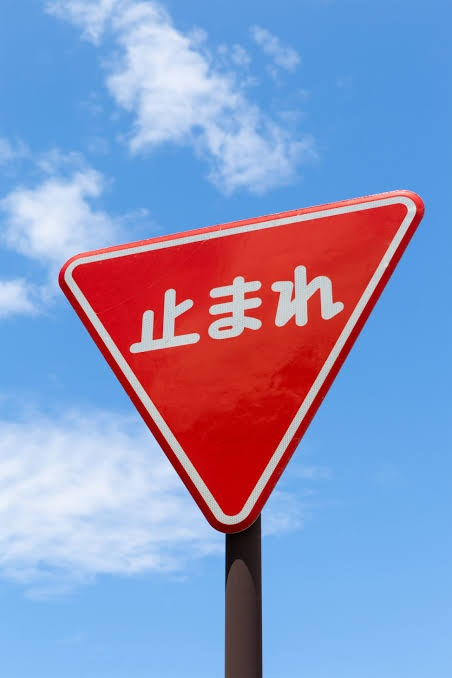Regulatory_sign_triangle: (49, 188, 433, 559)
